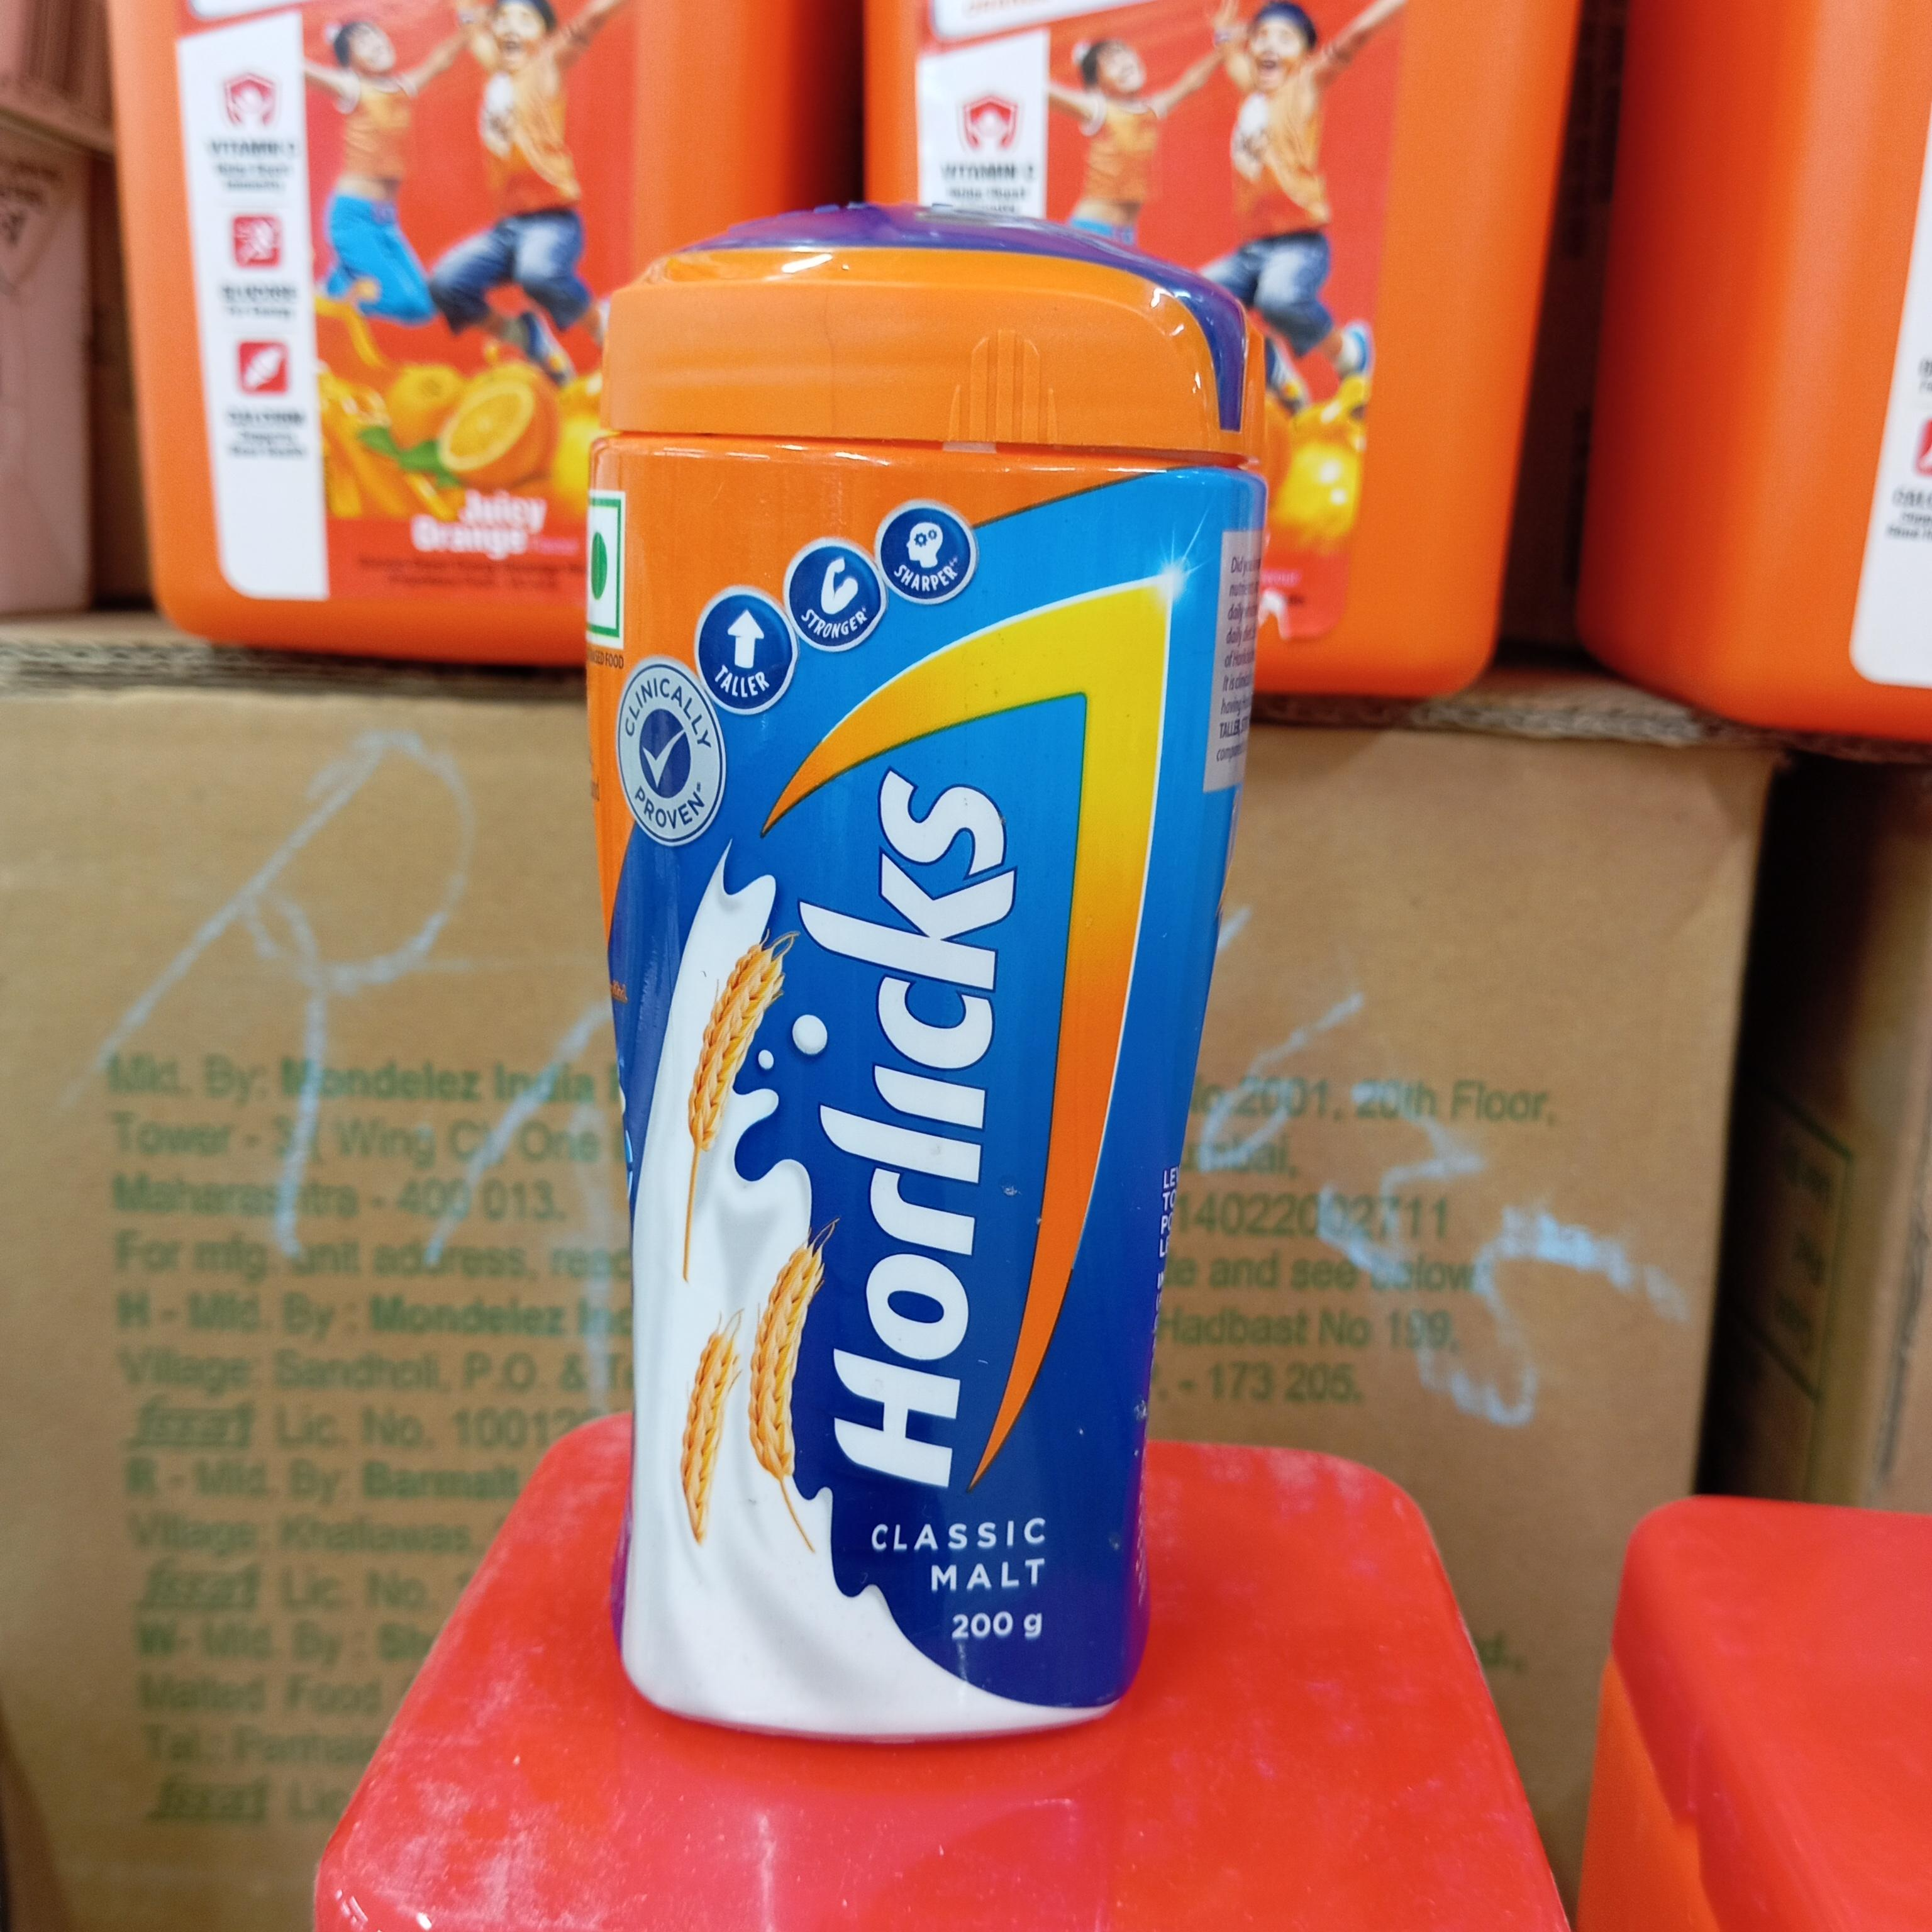HORLICK_CLASSIC_MALT_200_G_JAR: (568, 216, 1155, 1734)
